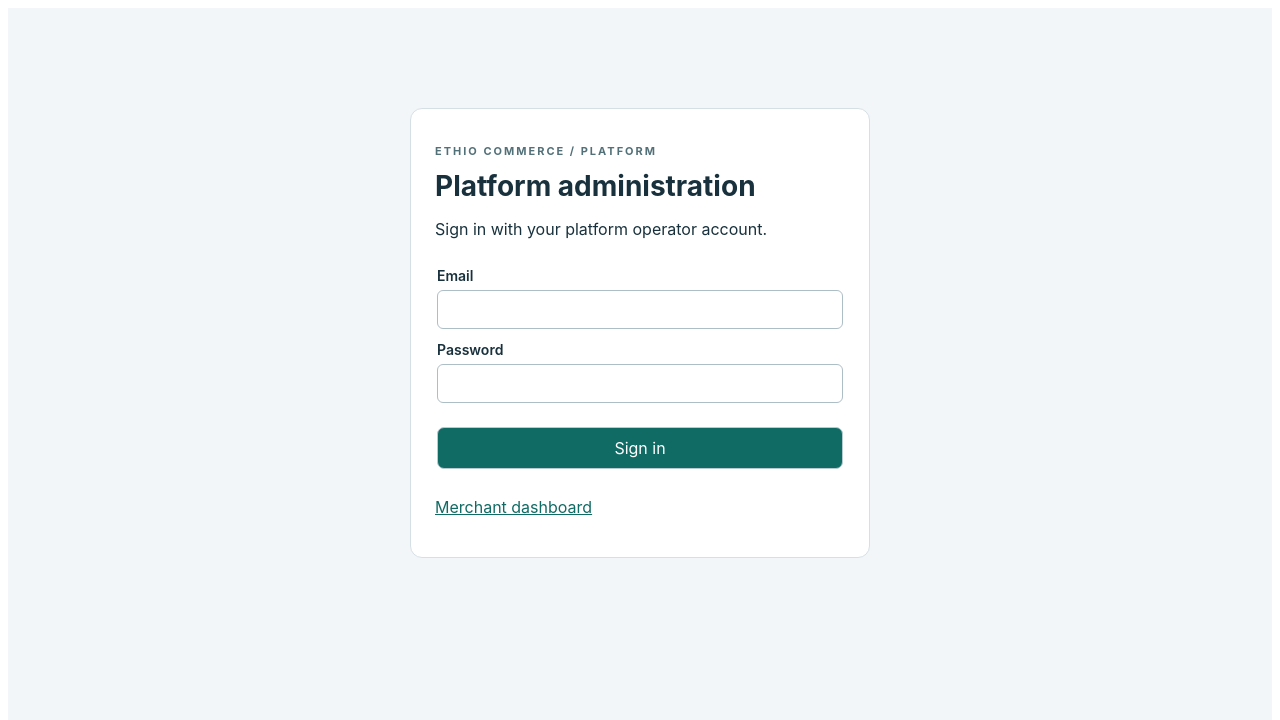
Scenario: platform invitation deliveries interaction › loads REVIEW_REQUIRED deliveries by default
Step 1. Type "operator@example.com" into the field labelled "Email" → (640,310), box [437,290,843,329]
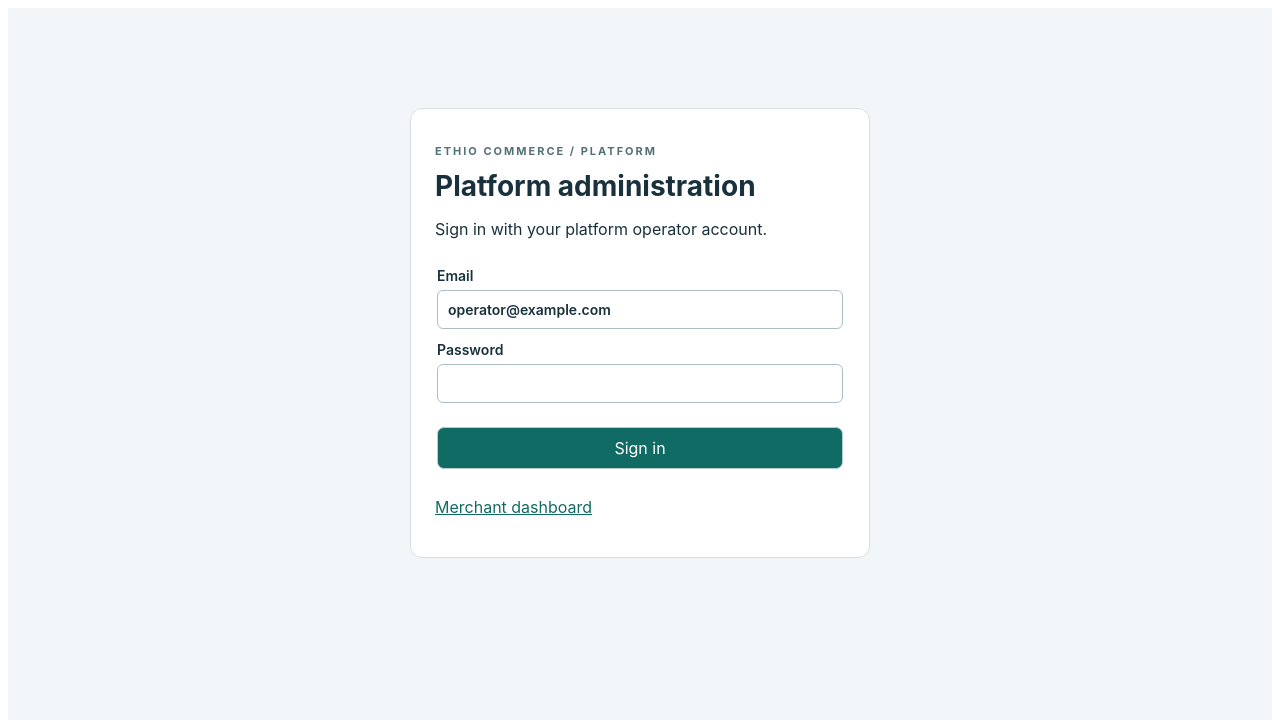
Step 2. Type "test-password" into the password field labelled "Password" → (640,384), box [437,364,843,403]
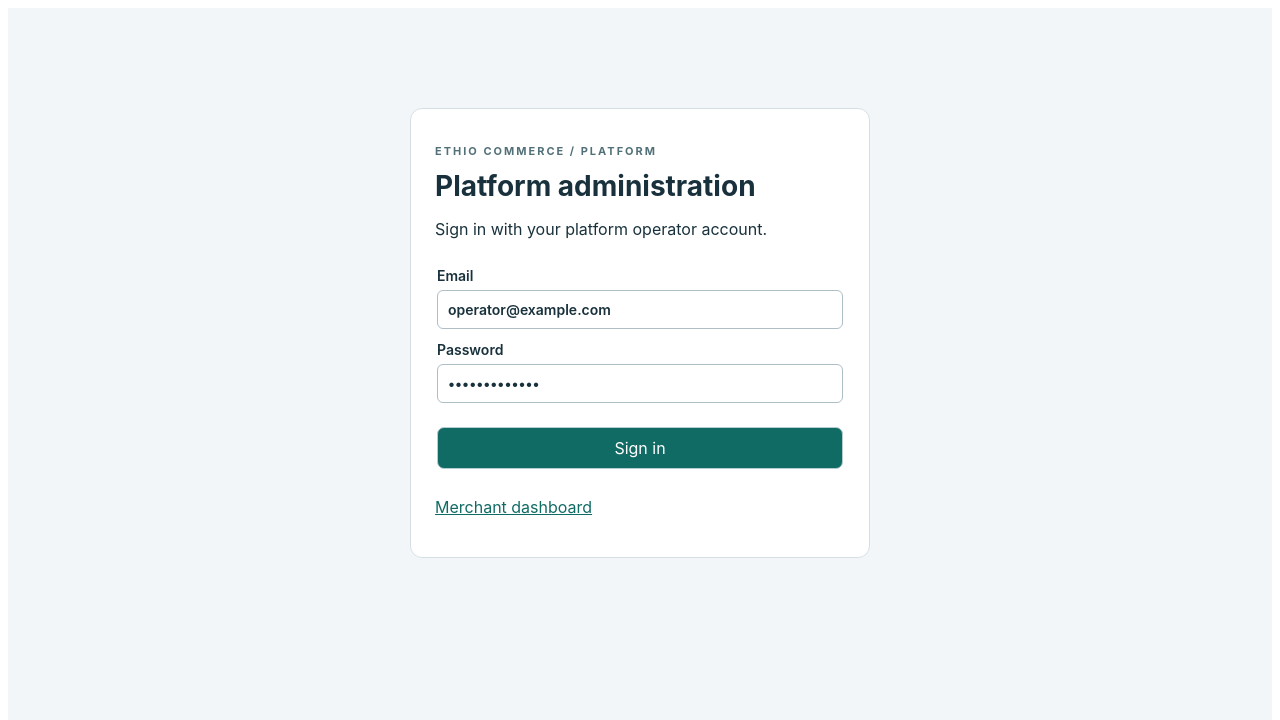
Step 3. Click the button "Sign in" → (640,448), box [437,427,843,469]
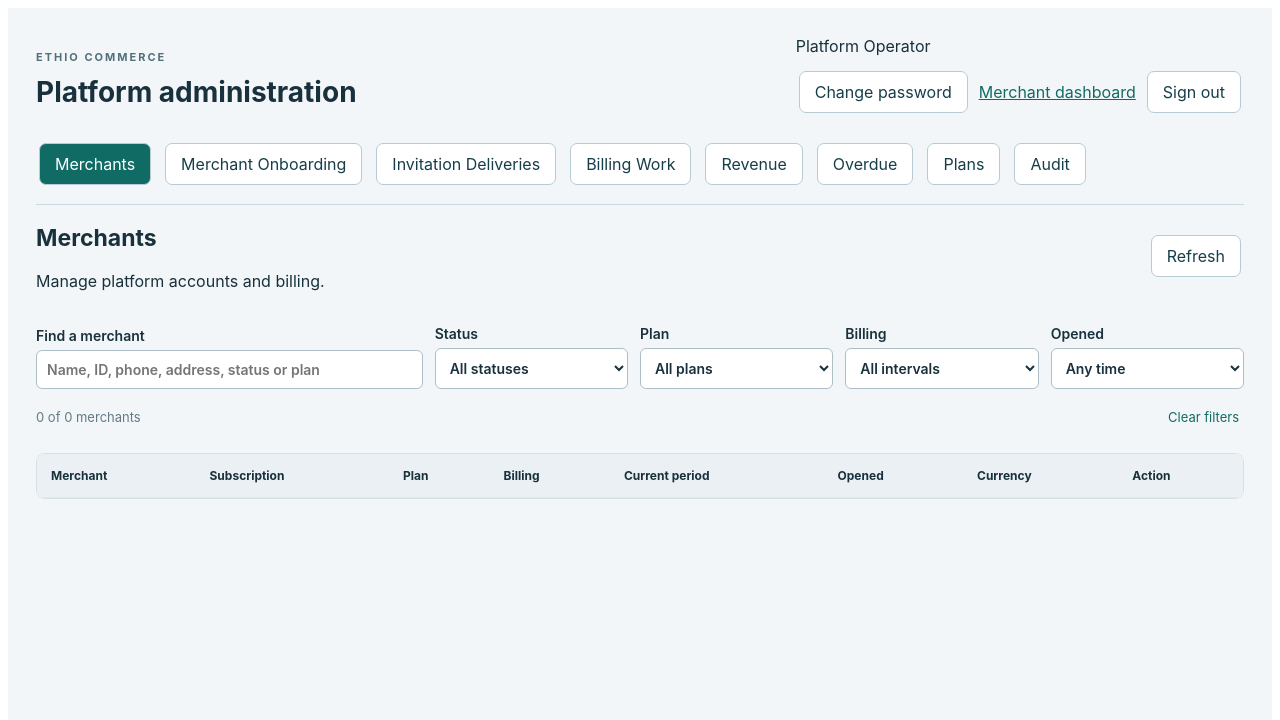
expect the text "Platform Operator" is shown: met, box [796,36,930,56]
Step 4. Click the button "Invitation Deliveries" → (466,164), box [376,143,556,185]
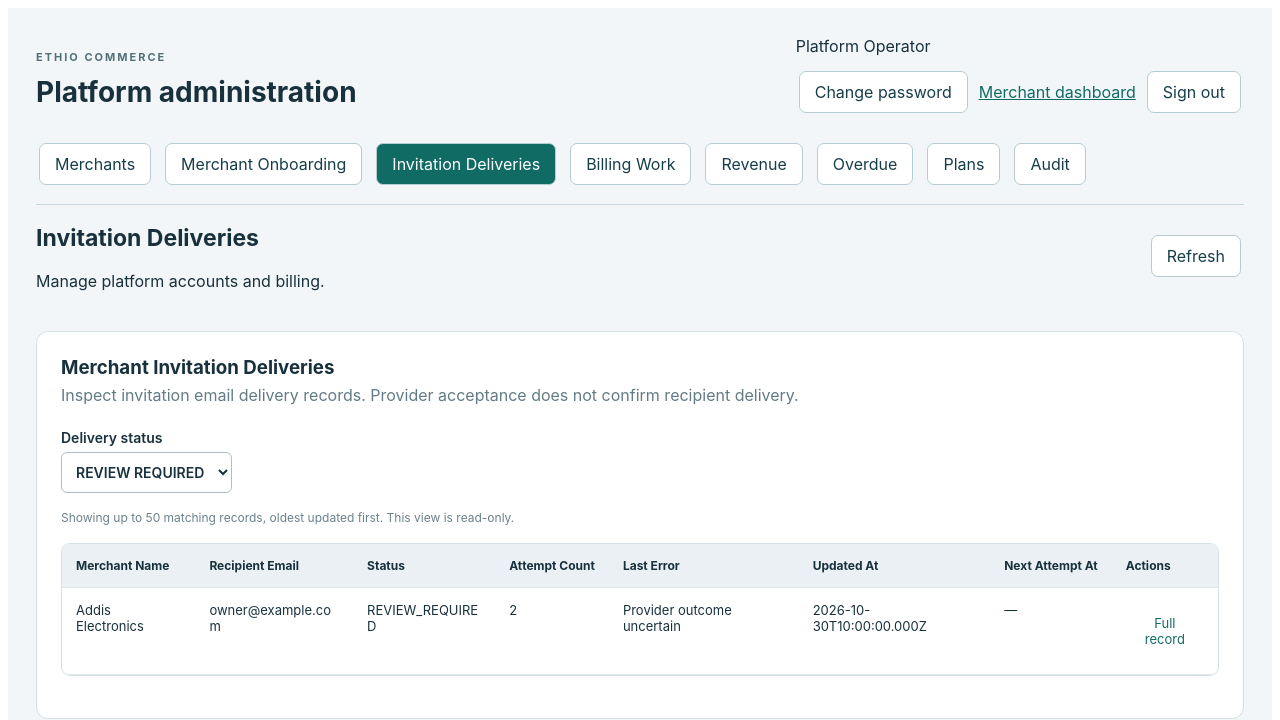
expect the text "Addis Electronics" is shown: met, box [62,588,195,675]
expect the text "owner@example.com" is shown: met, box [195,588,353,675]
expect the text "Provider outcome uncertain" is shown: met, box [609,588,799,675]
